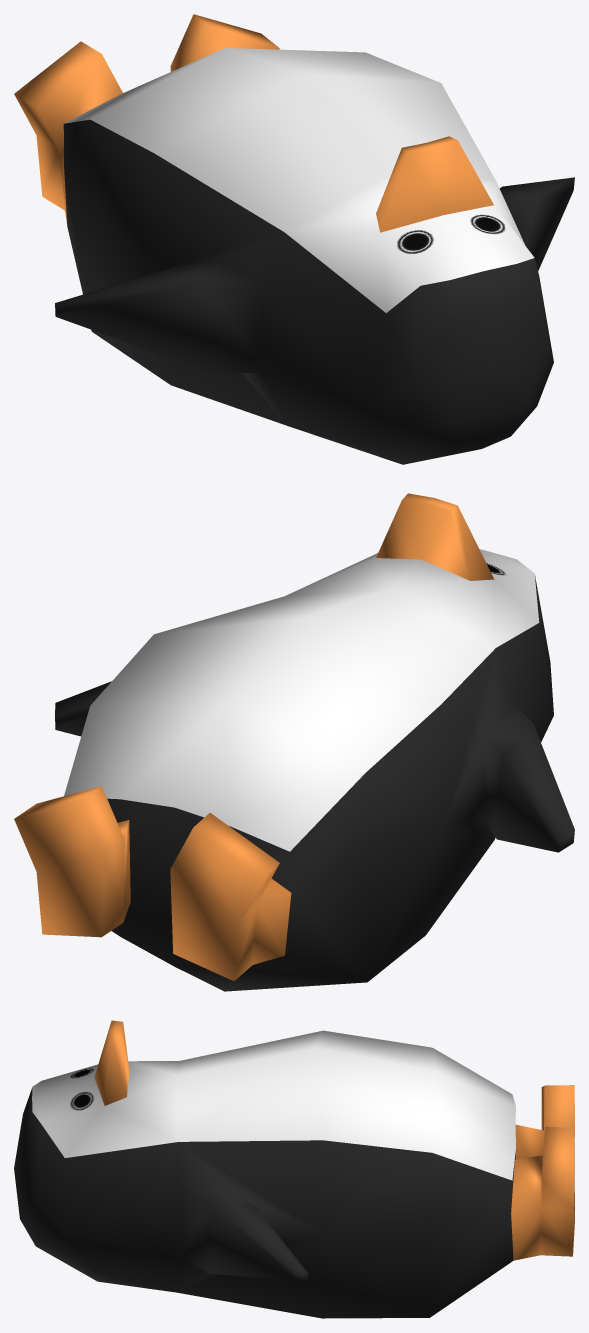
The model's file is Penguin.gltf.
3 views of the same model, one above another, from view 1: azimuth 30°, elevation 25°; view 2: azimuth 150°, elevation 25°; view 3: azimuth 270°, elevation 25° (orthographic). The views are drawn at different scales.
Visible parts, largest first — view 1: Goop; view 2: Goop; view 3: Goop.
Boxes of the visible parts, x1,y1,x2,y2 form: Goop: [14, 14, 574, 464]; Goop: [14, 493, 574, 991]; Goop: [14, 1020, 574, 1318].
Bounding box in the file's own units: 0.5962 × 0.3867 × 0.7121.
1 material, 1 textured.
